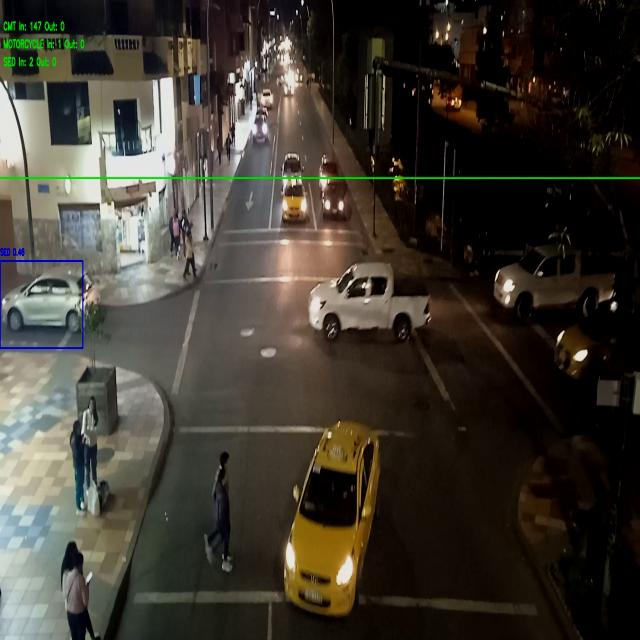CMT: (308, 263, 427, 332), (494, 244, 613, 306)
SED: (284, 425, 378, 615), (5, 267, 98, 324), (558, 305, 634, 374), (284, 185, 304, 223), (324, 186, 344, 215)
SUV: (281, 152, 302, 184), (253, 117, 266, 140), (261, 89, 273, 106)
